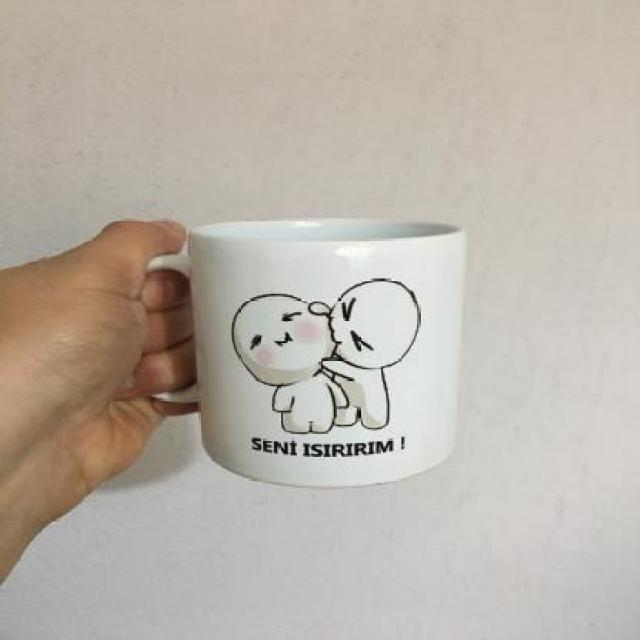taza: (140, 218, 470, 490)
